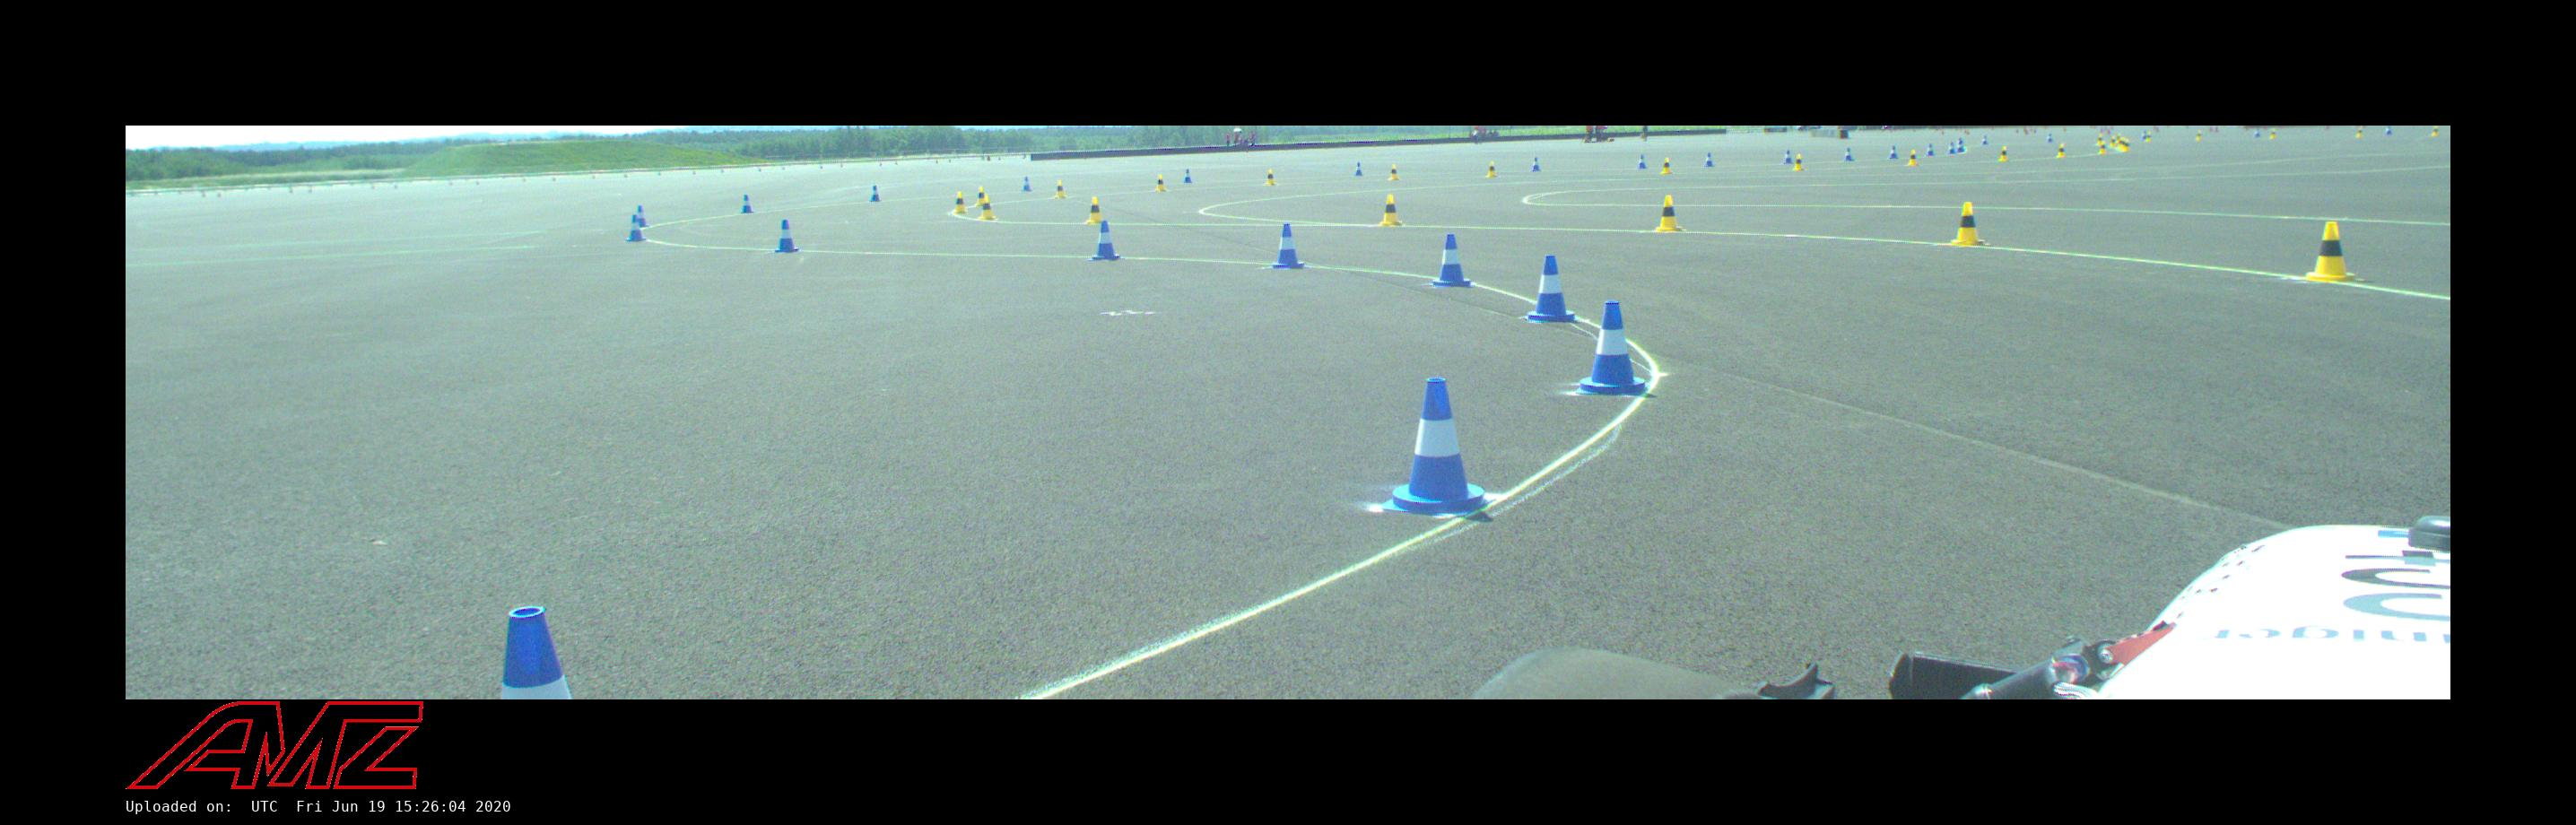blue_cone: (1383, 378, 1492, 516), (499, 605, 572, 698), (1577, 302, 1649, 394), (1526, 255, 1574, 322), (1433, 233, 1470, 286), (1272, 224, 1303, 270), (1091, 220, 1119, 260), (775, 220, 797, 251), (626, 215, 646, 242), (632, 205, 649, 227), (739, 194, 754, 214), (1842, 146, 1855, 161), (869, 184, 881, 200), (1529, 156, 1541, 171), (1957, 136, 1966, 153), (1704, 153, 1715, 166), (1636, 154, 1646, 169), (1782, 150, 1792, 164), (1022, 176, 1032, 191), (1889, 146, 1899, 159), (1183, 169, 1193, 182), (1927, 143, 1935, 156), (1354, 163, 1362, 176), (2384, 125, 2394, 135), (1948, 141, 1955, 154), (1981, 135, 1988, 145), (2141, 130, 2147, 140), (2047, 133, 2054, 141), (2256, 128, 2261, 136)
yellow_cone: (2305, 222, 2356, 281), (1950, 202, 1985, 247), (1656, 196, 1682, 230), (1378, 194, 1403, 227), (1084, 196, 1106, 224), (951, 191, 968, 212), (981, 196, 994, 220), (974, 186, 987, 207), (1055, 181, 1066, 199), (1661, 156, 1672, 174), (1792, 153, 1804, 171), (1263, 169, 1277, 184), (1155, 174, 1166, 191), (1487, 161, 1498, 177), (1390, 164, 1400, 181), (1999, 146, 2009, 161), (1909, 150, 1919, 164), (2057, 143, 2067, 156), (2100, 141, 2108, 154), (2096, 133, 2105, 145), (2270, 128, 2277, 140), (2196, 130, 2203, 141), (2431, 125, 2438, 136), (2124, 140, 2131, 151), (2109, 135, 2116, 146), (2116, 131, 2123, 143), (2146, 131, 2152, 141), (2356, 127, 2362, 136), (2119, 136, 2124, 150)
